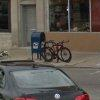Bicycle: (40, 34, 75, 67)
